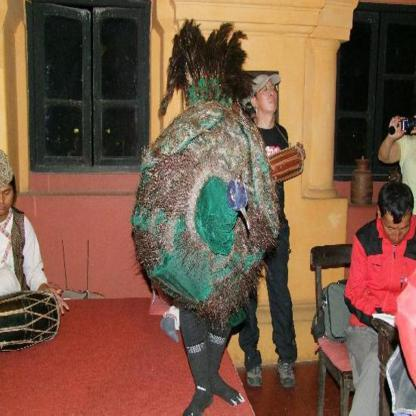face: (383, 207, 411, 242), (259, 79, 278, 111), (2, 187, 15, 214)
